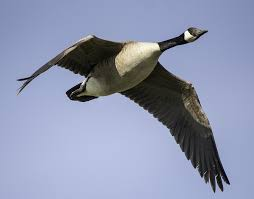goose: (14, 26, 222, 108)
